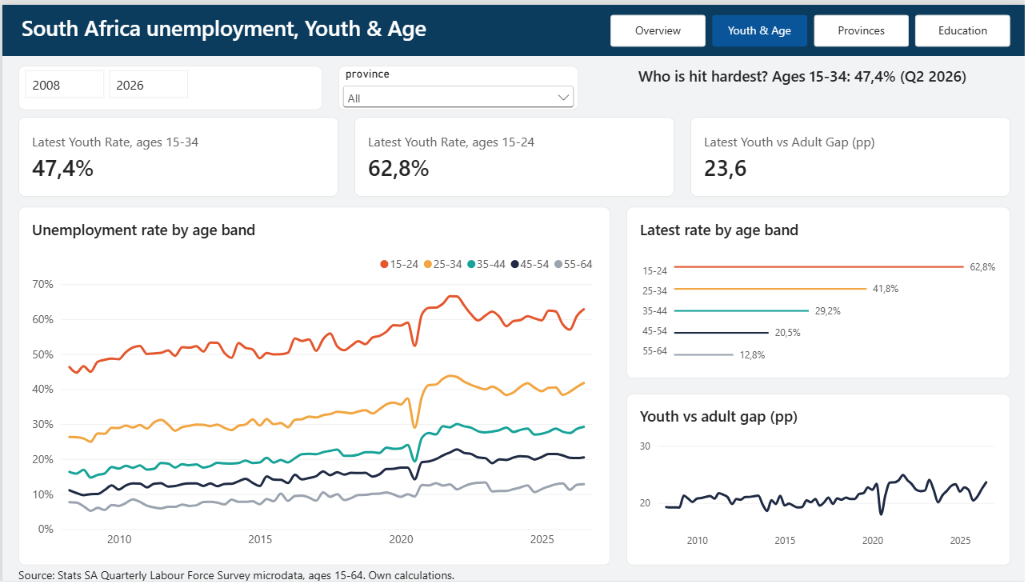

The page's visual inventory and layout, read from the dashboard file:
{"tool":"powerbi","page":{"name":"Youth & Age","canvas":[1280,720],"ordinal":1},"visuals":[{"type":"shape","box":[0,0,1280,64],"z":0},{"type":"pageNavigator","box":[760,12,500,40],"z":1000},{"type":"slicer","fields":{"Values":["Dim_Date.year"]},"box":[20,76,380,55],"z":2000},{"type":"textbox","box":[24,10,720,44],"z":3000},{"type":"textbox","box":[740,76,520,48],"z":4000},{"type":"cardVisual","fields":{"Data":["_Measures.Latest Youth Rate, ages 15-34"]},"box":[20,140,400,100],"z":5000},{"type":"cardVisual","fields":{"Data":["_Measures.Latest Youth Rate, ages 15-24"]},"box":[440,140,400,100],"z":6000},{"type":"cardVisual","fields":{"Data":["_Measures.Latest Youth vs Adult Gap (pp)"]},"box":[860,140,400,100],"z":7000},{"type":"textbox","box":[20,702,1240,18],"z":8000},{"type":"lineChart","title":"Unemployment rate by age band","fields":{"Category":["Dim_Date.quarter_end"],"Y":["_Measures.Rate Province Age"],"Series":["Dim_Age.age_band"]},"box":[20,252,740,448],"z":9000},{"type":"slicer","title":"Province","fields":{"Values":["Dim_Province.province"]},"box":[420,76,300,55],"z":10000},{"type":"clusteredBarChart","title":"Latest rate by age band","fields":{"Category":["Dim_Age.age_band"],"Y":["_Measures.Latest Rate by Age"],"Series":["Dim_Age.age_band"]},"box":[780,252,480,214],"z":11000},{"type":"lineChart","title":"Youth vs adult gap (pp)","fields":{"Category":["Dim_Date.quarter_end"],"Y":["_Measures.Youth vs Adult Gap"]},"box":[780,486,480,214],"z":12000}]}

Visuals, with their boxes in screenshot pixels (x1, y1, x2, y2), scaled from the page's 1280x720 canvas onto the 1025x582 screenshot:
shape: x1=0 y1=0 x2=1024 y2=52
pageNavigator: x1=609 y1=10 x2=1009 y2=42
slicer - Dim_Date.year: x1=16 y1=61 x2=320 y2=106
textbox: x1=19 y1=8 x2=596 y2=44
textbox: x1=593 y1=61 x2=1009 y2=100
cardVisual - _Measures.Latest Youth Rate, ages 15-34: x1=16 y1=113 x2=336 y2=194
cardVisual - _Measures.Latest Youth Rate, ages 15-24: x1=352 y1=113 x2=673 y2=194
cardVisual - _Measures.Latest Youth vs Adult Gap (pp): x1=689 y1=113 x2=1009 y2=194
textbox: x1=16 y1=567 x2=1009 y2=581
"Unemployment rate by age band" lineChart: x1=16 y1=204 x2=609 y2=566
"Province" slicer: x1=336 y1=61 x2=577 y2=106
"Latest rate by age band" clusteredBarChart: x1=625 y1=204 x2=1009 y2=377
"Youth vs adult gap (pp)" lineChart: x1=625 y1=393 x2=1009 y2=566
